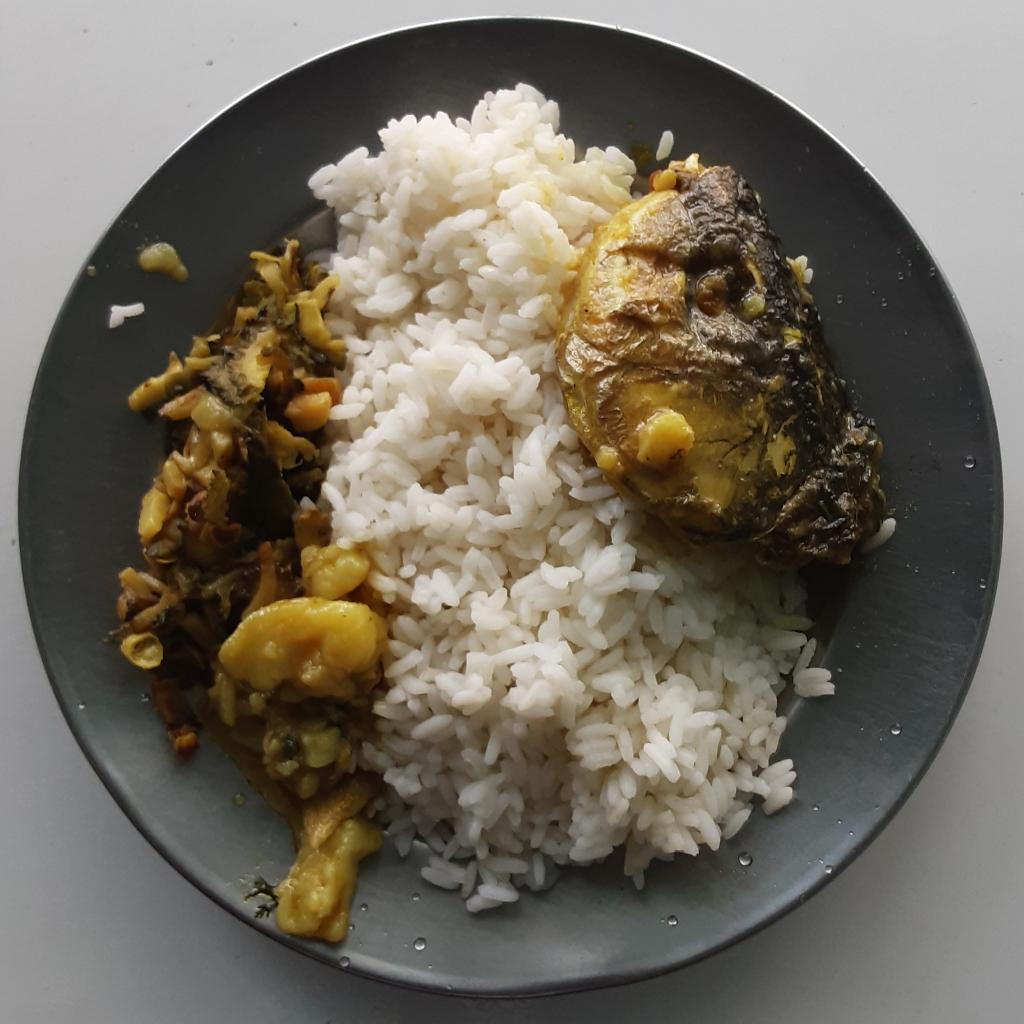fish: (554, 155, 898, 555)
korola-vaji: (107, 227, 340, 755)
lau: (198, 528, 385, 948)
rice: (307, 86, 850, 905)
